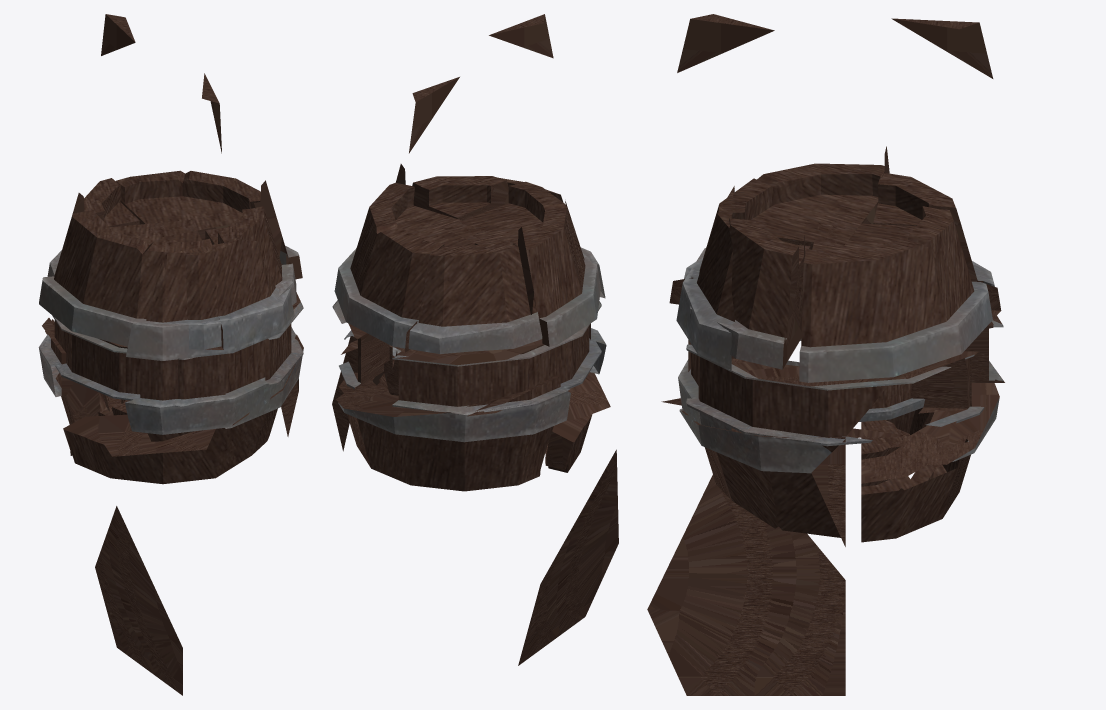
Rendered from New Game Object 00.obj.
The picture shows the model from 3 angles, left to right: view 1: azimuth 30°, elevation 25°; view 2: azimuth 150°, elevation 25°; view 3: azimuth 270°, elevation 25°; orthographic projection. The views are drawn at different scales.
Visible parts, largest first — view 1: New Game Object 04, New Game Object 08, New Game Object 02, New Game Object 03, New Game Object 06, New Game Object 00, New Game Object 05, New Game Object 01, New Game Object 07; view 2: New Game Object 05, New Game Object 03, New Game Object 04, New Game Object 02, New Game Object 01, New Game Object 06, New Game Object 00, New Game Object 07, New Game Object 08; view 3: New Game Object 04, New Game Object 03, New Game Object 07, New Game Object 02, New Game Object 05, New Game Object 00, New Game Object 08, New Game Object 01, New Game Object 06.
Part boxes in pixels (left/top/right/bottom): New Game Object 04: left=63, top=327, right=303, bottom=695; New Game Object 08: left=125, top=239, right=294, bottom=454; New Game Object 02: left=39, top=73, right=223, bottom=349; New Game Object 03: left=101, top=14, right=302, bottom=279; New Game Object 06: left=43, top=315, right=225, bottom=406; New Game Object 00: left=205, top=206, right=296, bottom=322; New Game Object 05: left=38, top=318, right=129, bottom=424; New Game Object 01: left=47, top=178, right=139, bottom=276; New Game Object 07: left=265, top=292, right=303, bottom=384; New Game Object 05: left=336, top=372, right=570, bottom=491; New Game Object 03: left=334, top=77, right=490, bottom=352; New Game Object 04: left=332, top=336, right=618, bottom=665; New Game Object 02: left=443, top=14, right=600, bottom=346; New Game Object 01: left=408, top=240, right=542, bottom=353; New Game Object 06: left=392, top=301, right=601, bottom=416; New Game Object 00: left=412, top=176, right=508, bottom=220; New Game Object 07: left=332, top=300, right=389, bottom=389; New Game Object 08: left=498, top=177, right=606, bottom=374; New Game Object 04: left=647, top=398, right=845, bottom=695; New Game Object 03: left=799, top=18, right=1001, bottom=382; New Game Object 07: left=686, top=344, right=984, bottom=446; New Game Object 02: left=669, top=14, right=889, bottom=304; New Game Object 05: left=861, top=383, right=999, bottom=542; New Game Object 00: left=690, top=218, right=810, bottom=369; New Game Object 08: left=676, top=186, right=734, bottom=430; New Game Object 01: left=873, top=172, right=994, bottom=286; New Game Object 06: left=688, top=316, right=1004, bottom=382.
Size of the model in its own units: 1.07 by 2.44 by 1.4.
2 materials, 2 textured.
